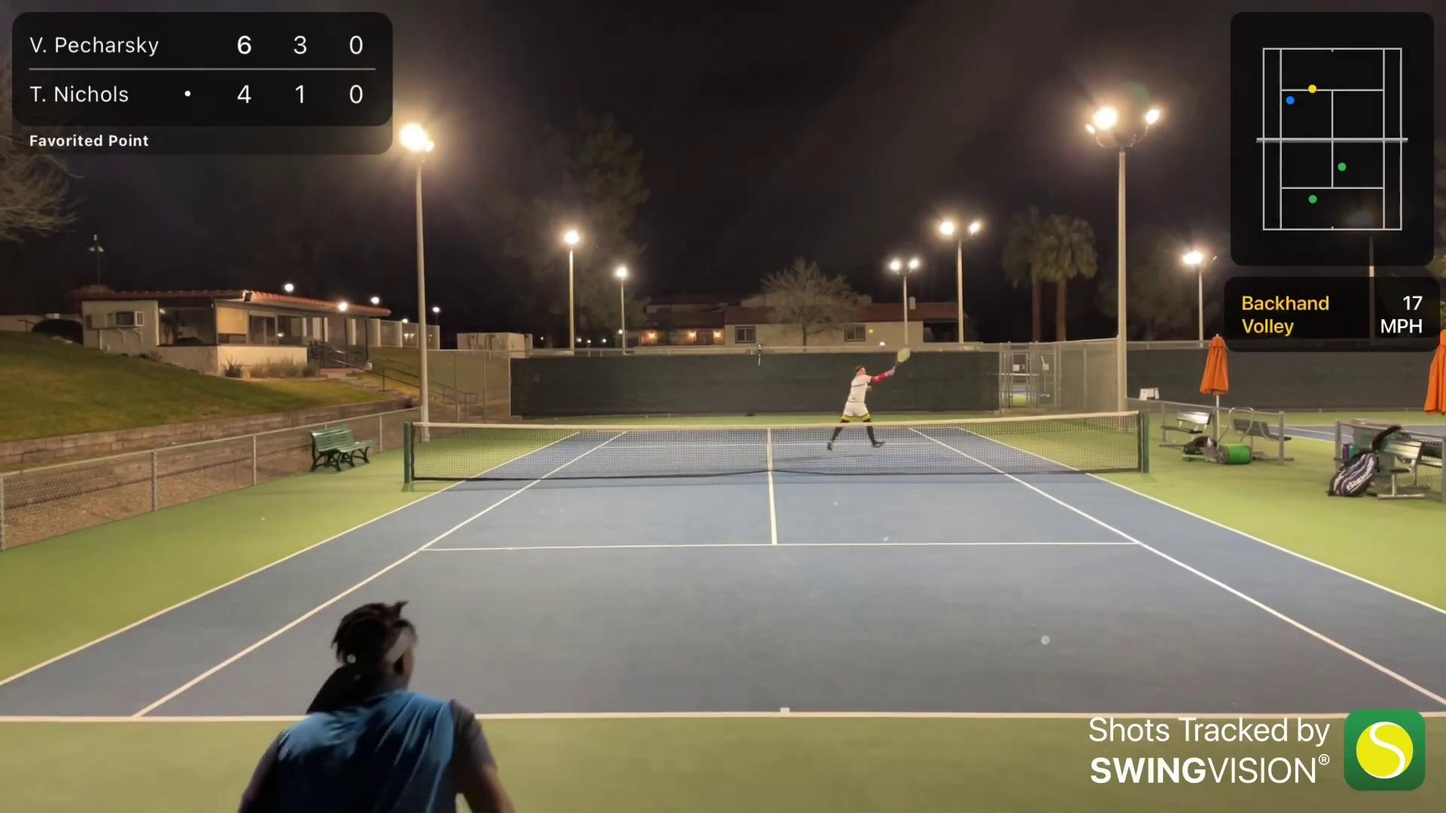ball: (866, 327, 874, 334)
